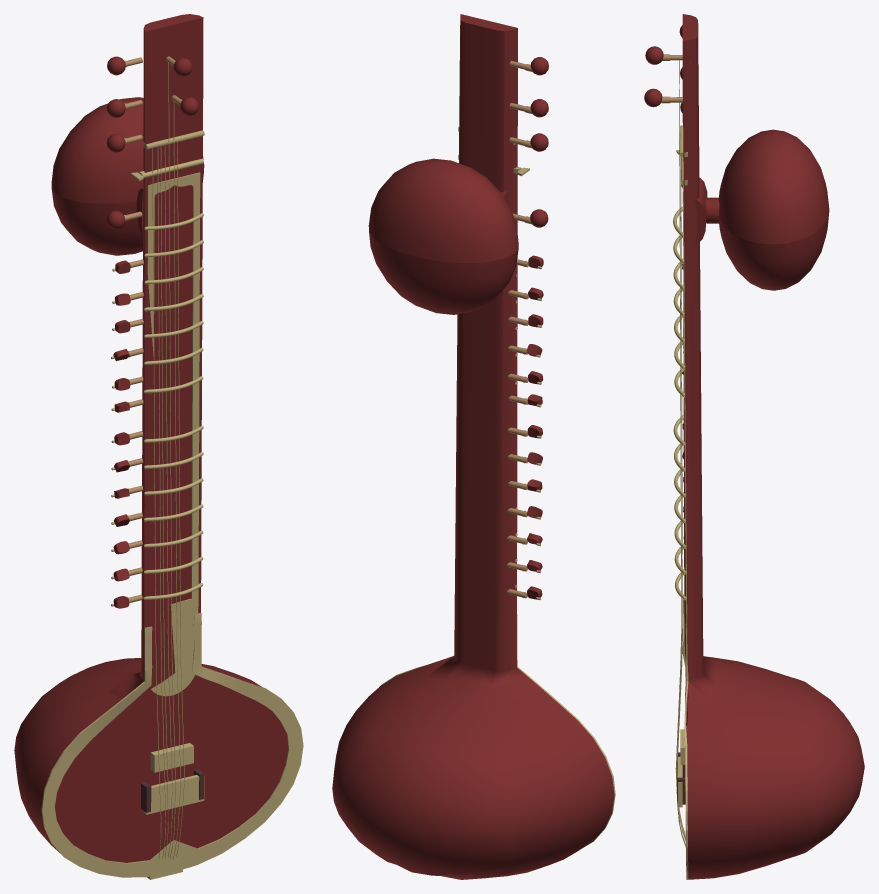
Rendered from Sitar.fbx.
3 renders of one model, left to right at view 1: azimuth 30°, elevation 25°; view 2: azimuth 150°, elevation 25°; view 3: azimuth 270°, elevation 25°, orthographic.
Parts seen in each view (by area): view 1: polySurface644, polySurface549; view 2: polySurface644, polySurface549; view 3: polySurface644, polySurface549.
Boxes of the visible parts, left/top/right/bottom form: polySurface644: left=14, top=14, right=303, bottom=877; polySurface549: left=111, top=56, right=204, bottom=879; polySurface644: left=332, top=14, right=615, bottom=879; polySurface549: left=458, top=27, right=542, bottom=599; polySurface644: left=644, top=14, right=864, bottom=879; polySurface549: left=661, top=54, right=690, bottom=847.
Bounding box in the file's own units: 256 × 802 × 191.
